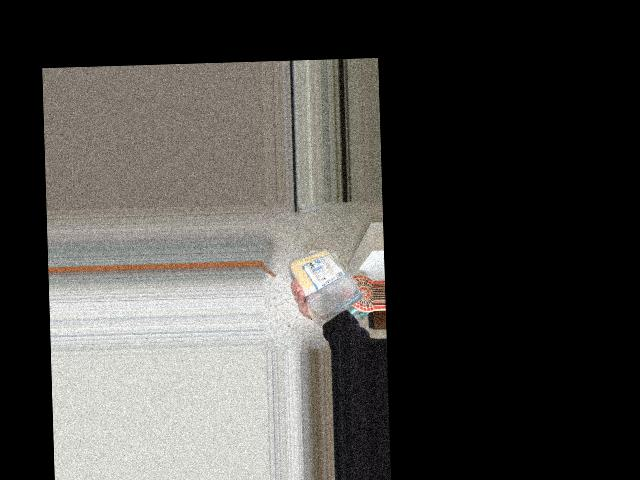cheese: (296, 241, 364, 317)
